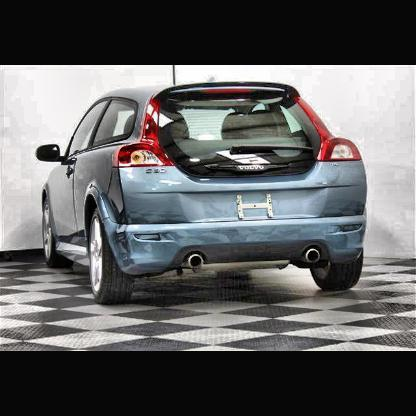Volvo C30 Hatchback 2012: (38, 66, 369, 309)
